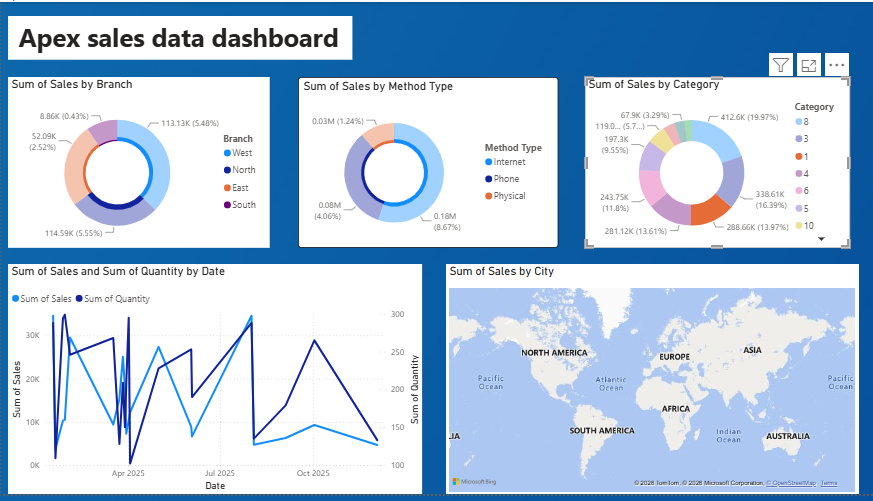

The dashboard page shown, as its layout file describes it:
{"tool":"powerbi","page":{"name":"Page 1","canvas":[1280,720],"ordinal":0},"visuals":[{"type":"textbox","box":[10.1,20.2,503.9,63.8],"z":0},{"type":"donutChart","fields":{"Category":["Branch.Branch"],"Y":["Sum(Sales.Sales)"]},"box":[10.1,109.2,383,250.3],"z":1000},{"type":"donutChart","fields":{"Y":["Sum(Sales.Sales)"],"Category":["Method Type.Method Type"]},"box":[435.1,109.2,381.3,250.3],"z":2000},{"type":"donutChart","fields":{"Y":["Sum(Sales.Sales)"],"Category":["Product.Category"]},"box":[855,109.2,388,250.3],"z":3000},{"type":"map","fields":{"Category":["Branch.City"],"Size":["Sum(Sales.Sales)"]},"box":[651.8,383,603,337.6],"z":4000},{"type":"lineChart","fields":{"Y":["Sum(Sales.Sales)"],"Y2":["Sum(Sales.Quantity)"],"Category":["Sales.Date"]},"box":[10.1,383,606.4,337.6],"z":5000}]}

Visuals, with their boxes in screenshot pixels (x1, y1, x2, y2), scaled from the page's 1280x720 canvas onto the 873x501 screenshot:
textbox: [7,14,351,58]
donutChart - Branch.Branch x Sum(Sales.Sales): [7,76,268,250]
donutChart - Sum(Sales.Sales) x Method Type.Method Type: [297,76,557,250]
donutChart - Sum(Sales.Sales) x Product.Category: [583,76,848,250]
map - Branch.City x Sum(Sales.Sales): [445,267,856,500]
lineChart - Sum(Sales.Sales) x Sum(Sales.Quantity): [7,267,420,500]
